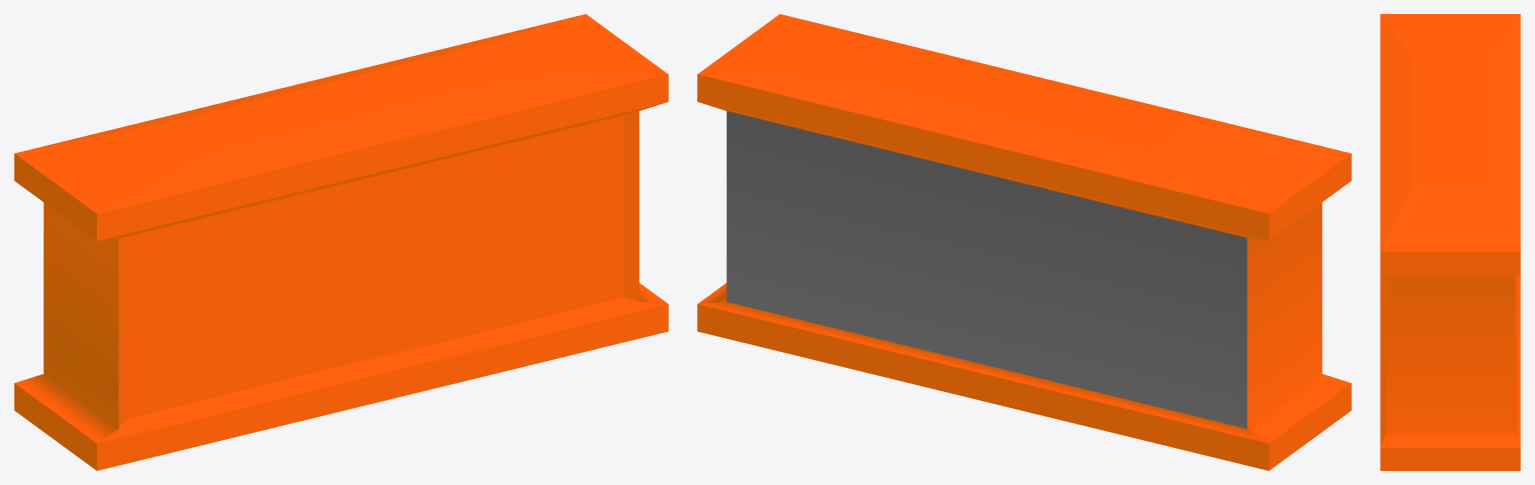
The model's file is Seal Sorta good.fbx.
The picture shows the model from 3 angles, left to right: view 1: azimuth 30°, elevation 25°; view 2: azimuth 150°, elevation 25°; view 3: azimuth 270°, elevation 25°; orthographic projection. The views are drawn at different scales.
Parts seen in each view (by area): view 1: pCube1; view 2: pCube1; view 3: pCube1.
Boxes of the visible parts, bbox=[...] form: pCube1: bbox=[14, 14, 668, 470]; pCube1: bbox=[697, 14, 1351, 470]; pCube1: bbox=[1380, 14, 1520, 470].
Bounding box in the file's own units: 21.95 × 10.42 × 5.49.
